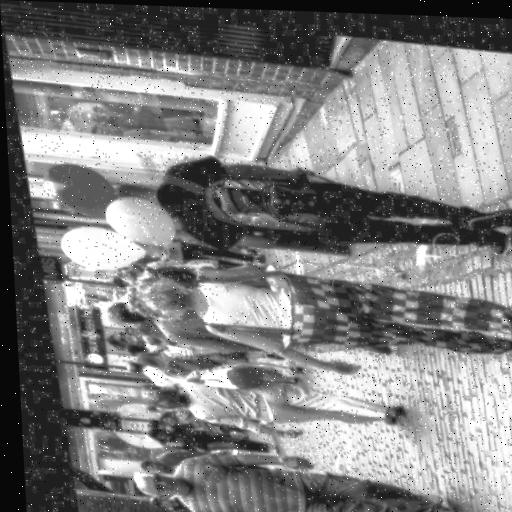balloon: (54, 222, 143, 272), (38, 159, 111, 219), (100, 192, 172, 244)
